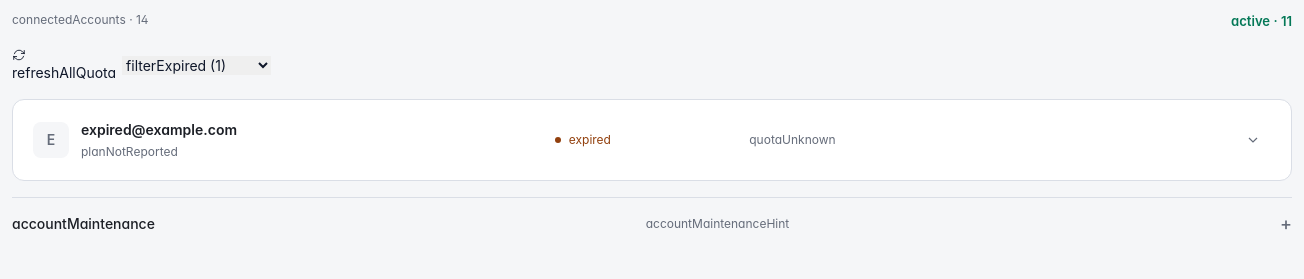
Test: AccountList › refreshes active accounts beyond the visible page and filter, including exhausted cached quota
Click the button "refreshAllQuota". click: {"x": 64, "y": 65}
box: [12,48,116,83]
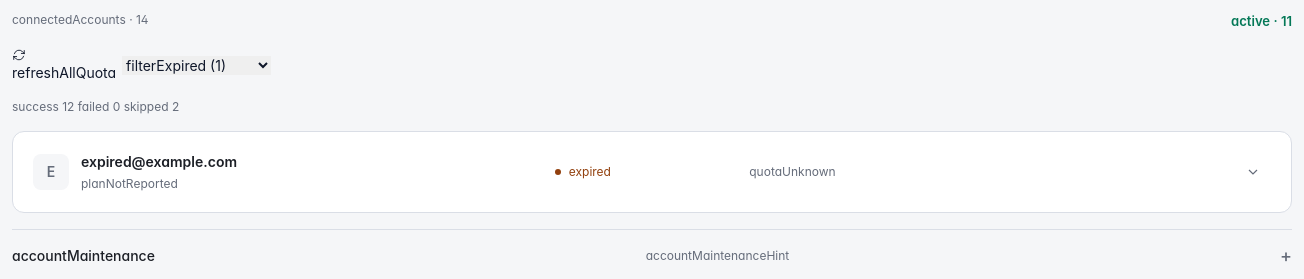
expect the message reads "success 12 failed 0 skipped 2": met, box [12,99,179,114]
